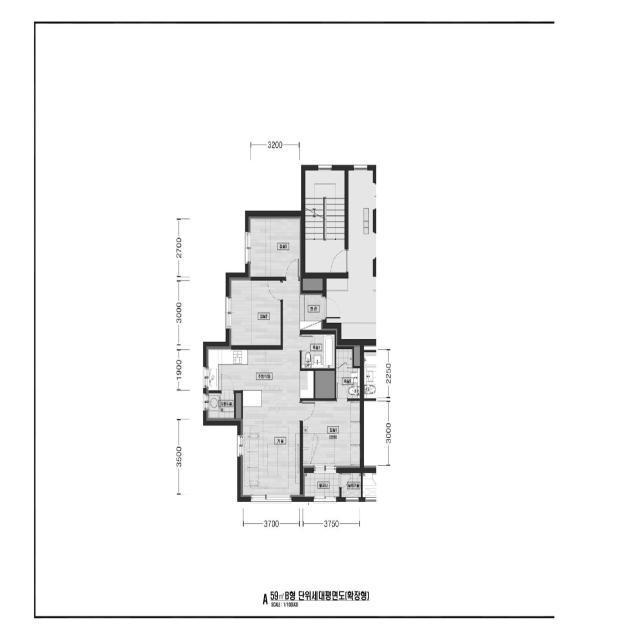space_balconi: (303, 473, 340, 497)
space_bedroom: (303, 401, 360, 468), (229, 277, 281, 345), (248, 216, 301, 277)
space_elevator_hall: (327, 170, 376, 339)
space_front: (300, 293, 325, 330)
space_kitchen: (206, 346, 283, 418)
space_living_room: (241, 281, 314, 497)
space_multipurpose_space: (206, 393, 234, 421)
space_other: (315, 371, 335, 398), (303, 278, 323, 290), (354, 345, 360, 366), (236, 393, 241, 418)
space_outdoor_room: (341, 473, 361, 497)
space_staircase: (305, 170, 345, 273)
space_toilet: (336, 349, 360, 398), (301, 334, 335, 368)
